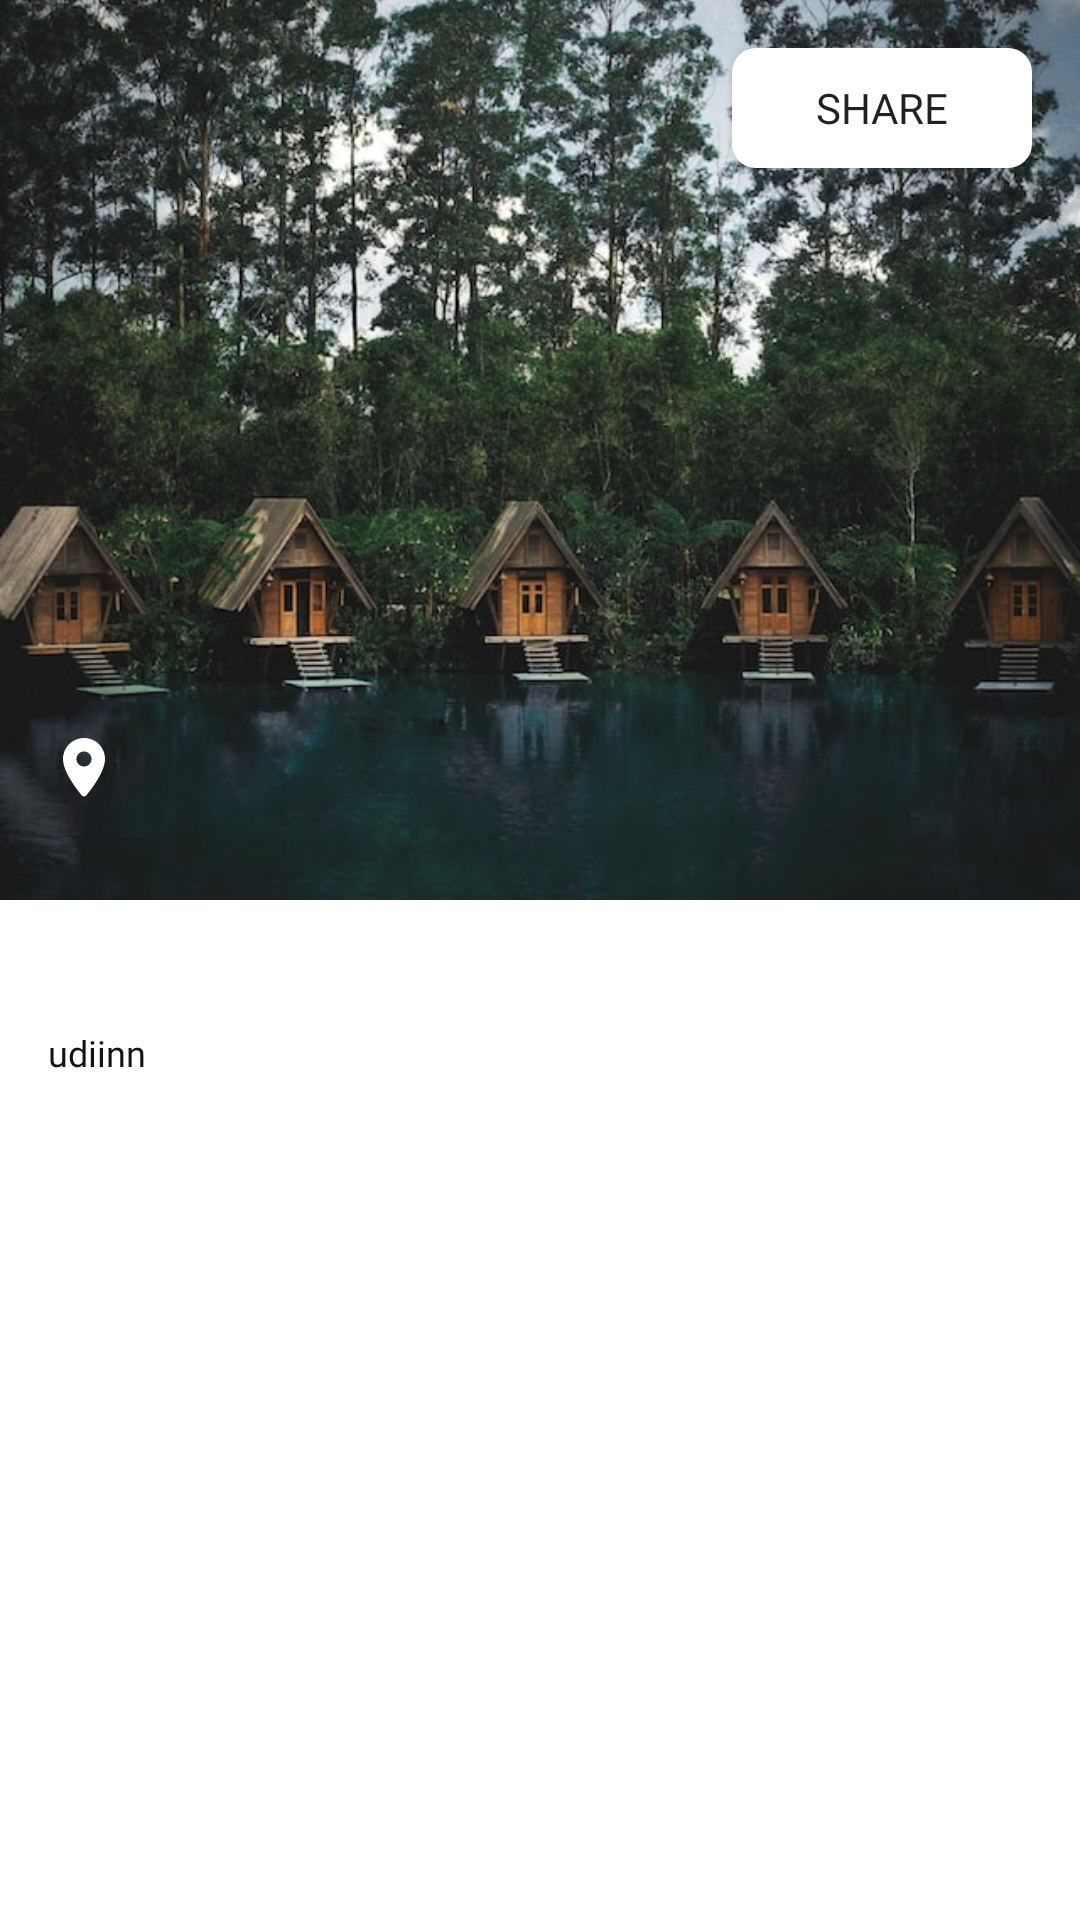

Locate icon controls on the screen. Image size 1080 x 1920, boxes as (x1, y1, x2, y2).
location: (57, 732, 105, 797)
